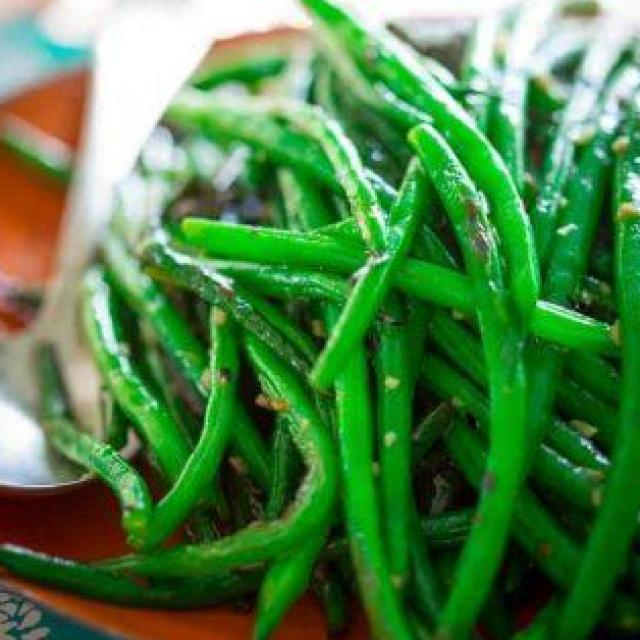Beans: (65, 12, 640, 640)
